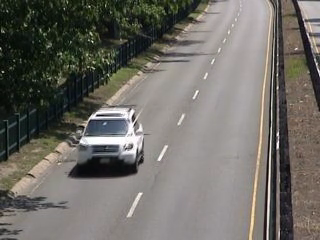car: (75, 102, 154, 176)
